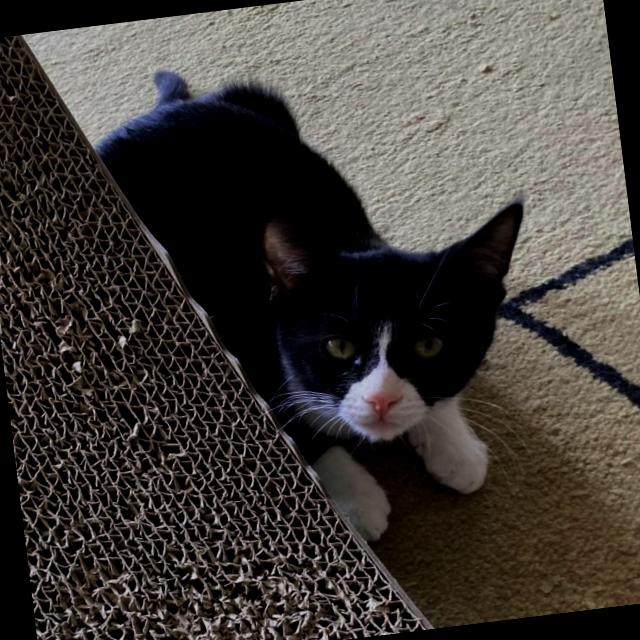american_shorthair_cat: (243, 172, 554, 460)
